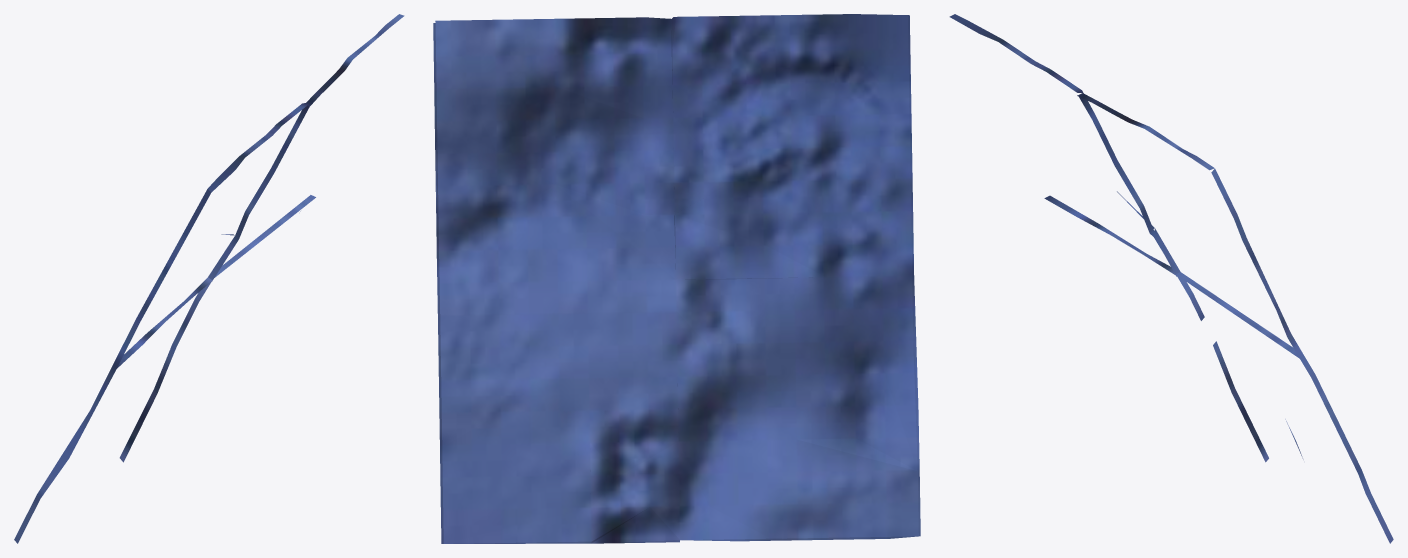
3 views of the same model, side by side, from view 1: azimuth 30°, elevation 25°; view 2: azimuth 150°, elevation 25°; view 3: azimuth 270°, elevation 25° (orthographic). The views are drawn at different scales.
Bounding box in the file's own units: 39296 × 36187 × 34279.
1 material, 1 textured.
